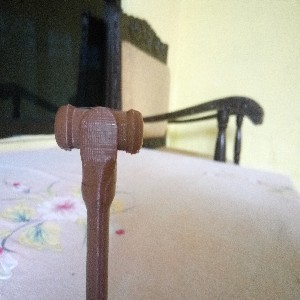palu: (54, 103, 143, 300)
